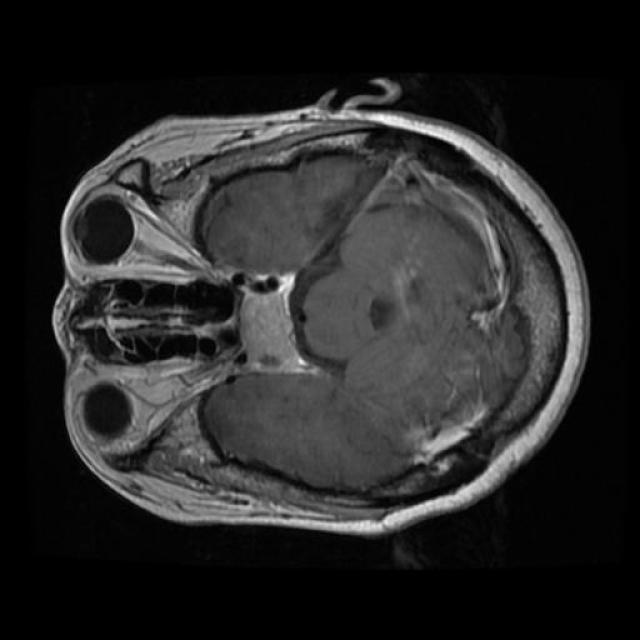Pituitary: (224, 273, 314, 372)
